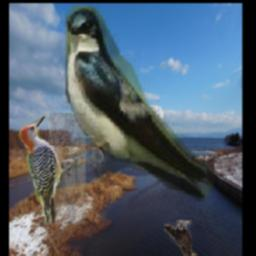Crow: (164, 221, 197, 256)
Swallow: (65, 6, 213, 203)
Woodpecker: (16, 113, 86, 224)
